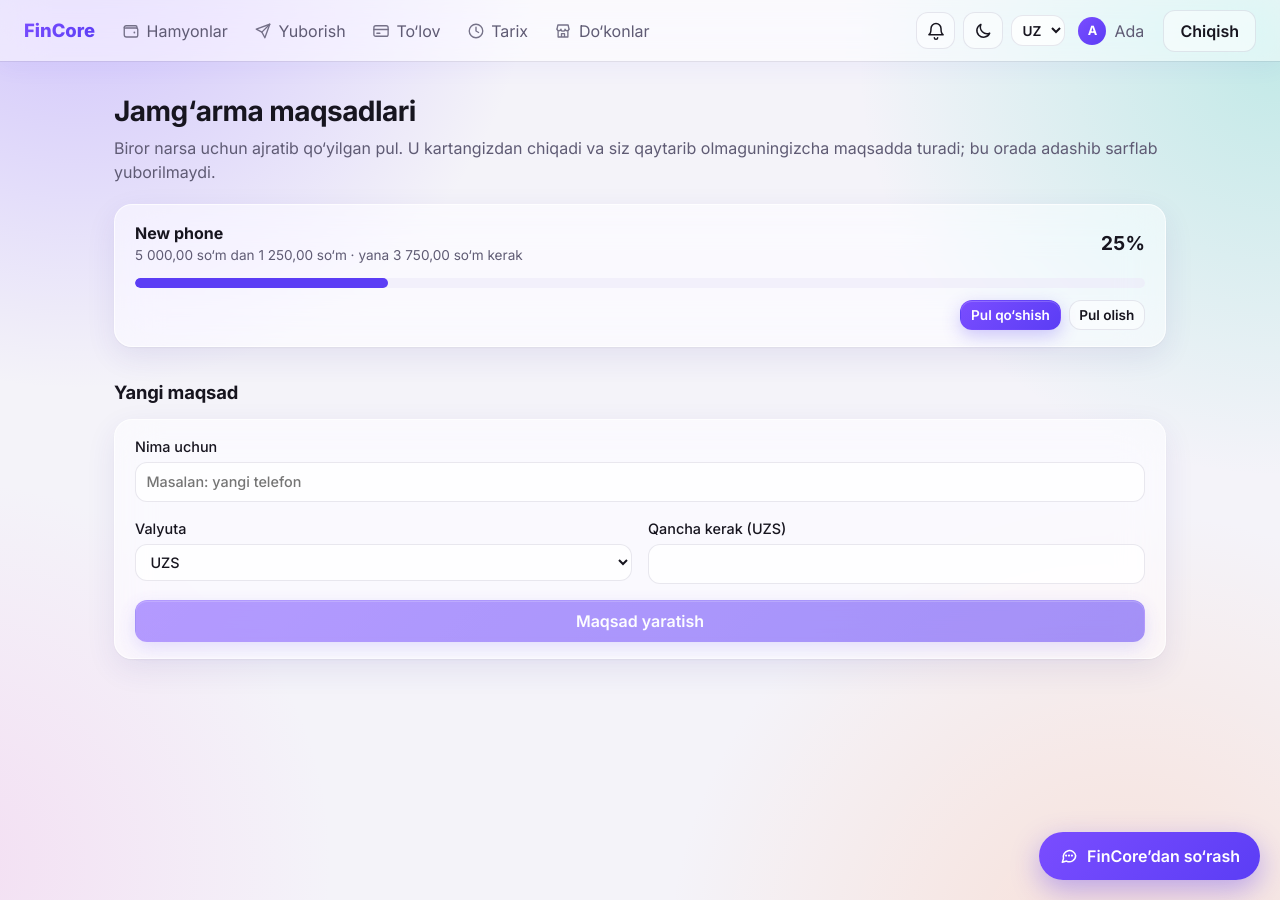
Scenario: savings goals › says plainly when a movement failed or is still on its way
The image size is (1280, 900).
Click the button "Pul qo‘shish".
click(1011, 315)  # box [960, 300, 1061, 330]
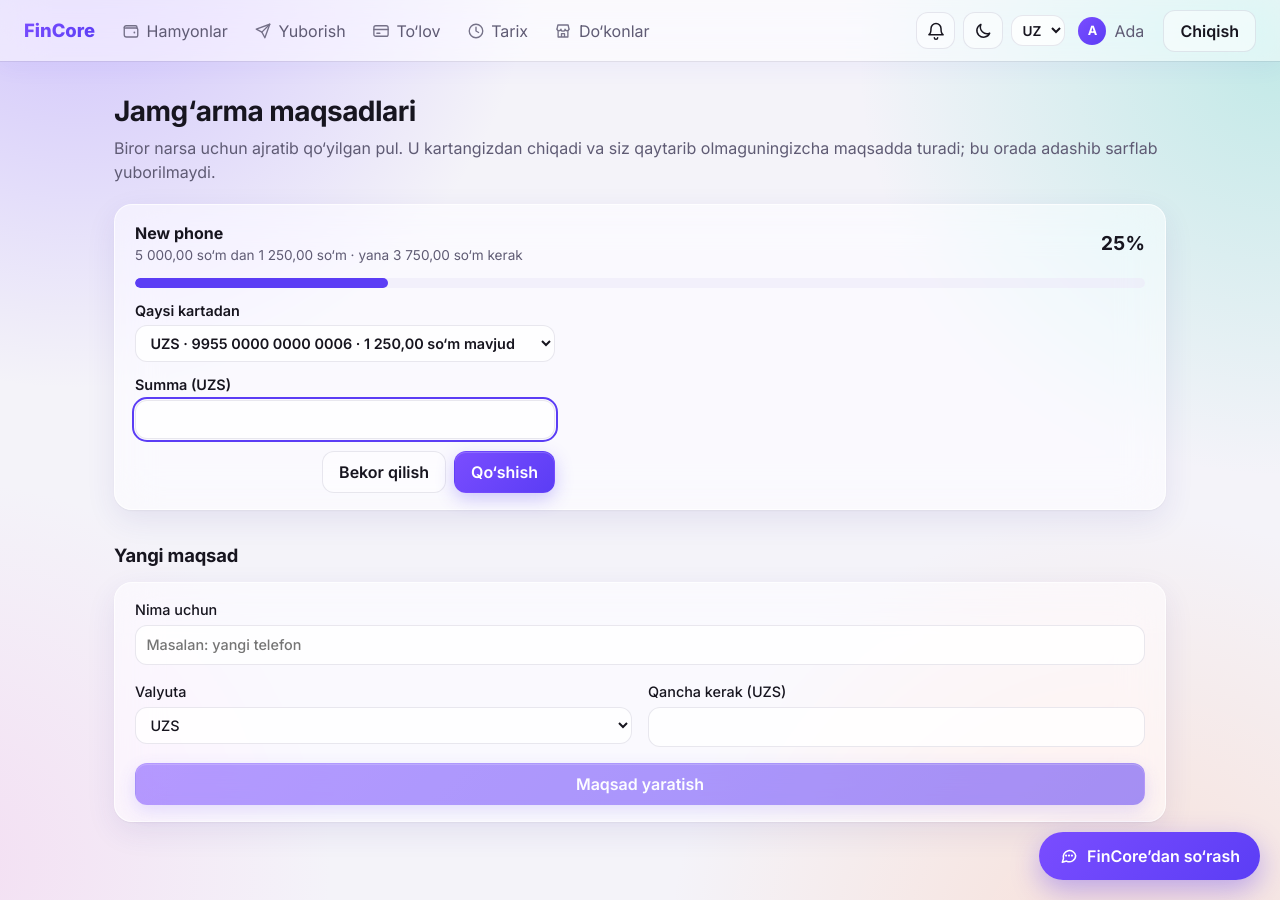
Type "300" into the field labelled "Summa (UZS)".
click(345, 420); type("300")  # box [135, 400, 555, 439]
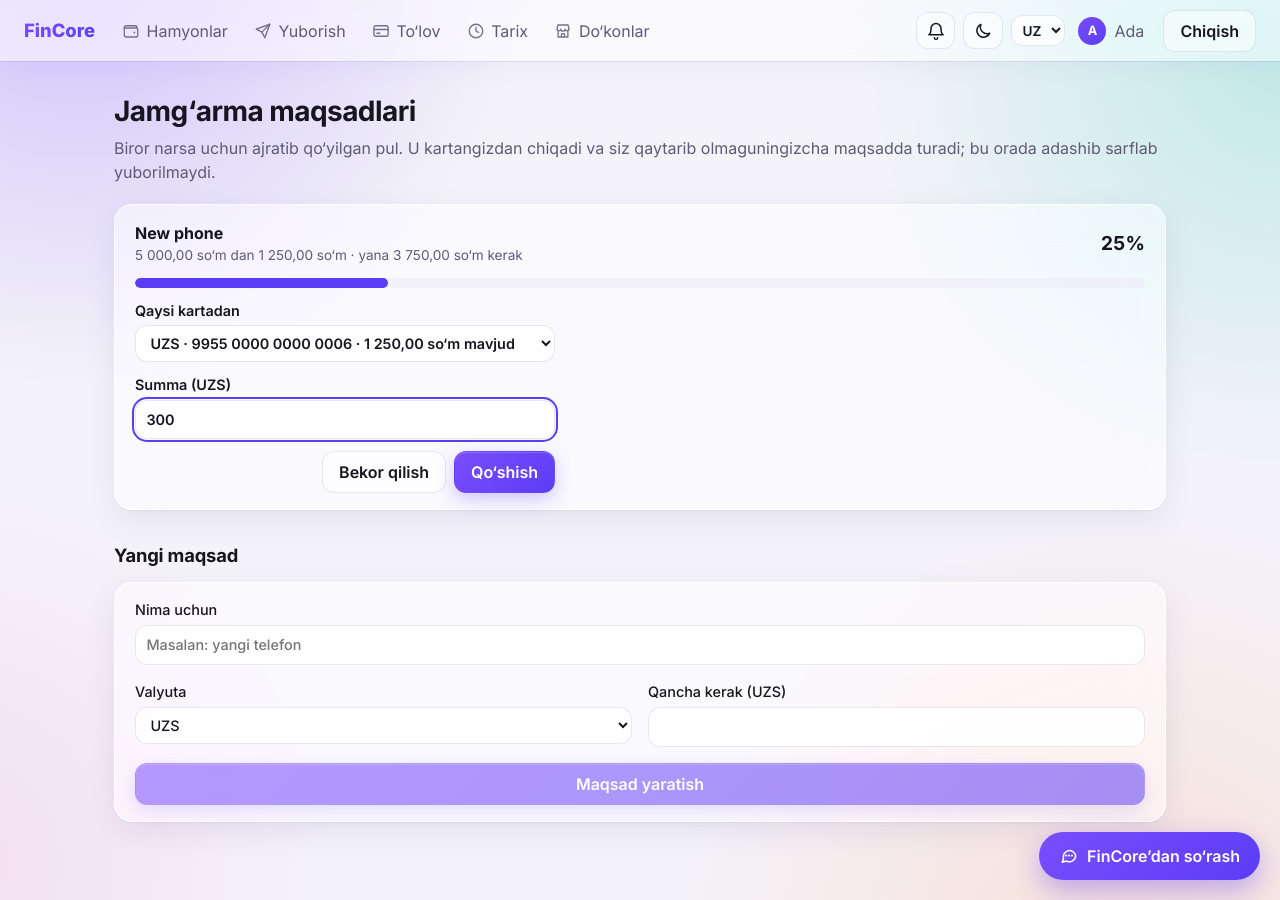
Click the button "Qo‘shish".
click(505, 472)  # box [454, 451, 555, 493]
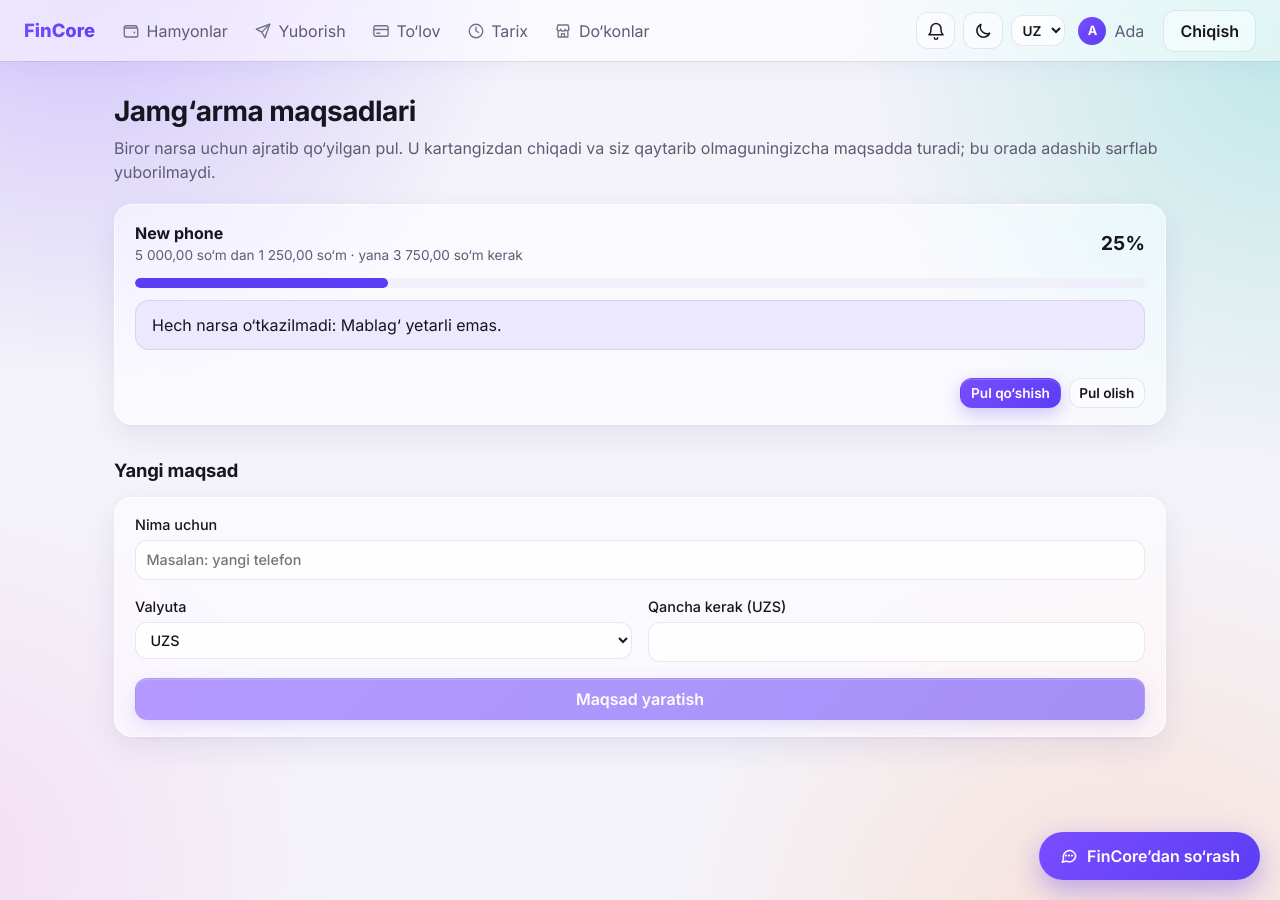
Expected: the text "Hech narsa o‘tkazilmadi: Mablag‘ yetarli emas." is shown, [135, 300, 1145, 350]
Click the button "Pul qo‘shish".
click(1011, 393)  # box [960, 378, 1061, 408]
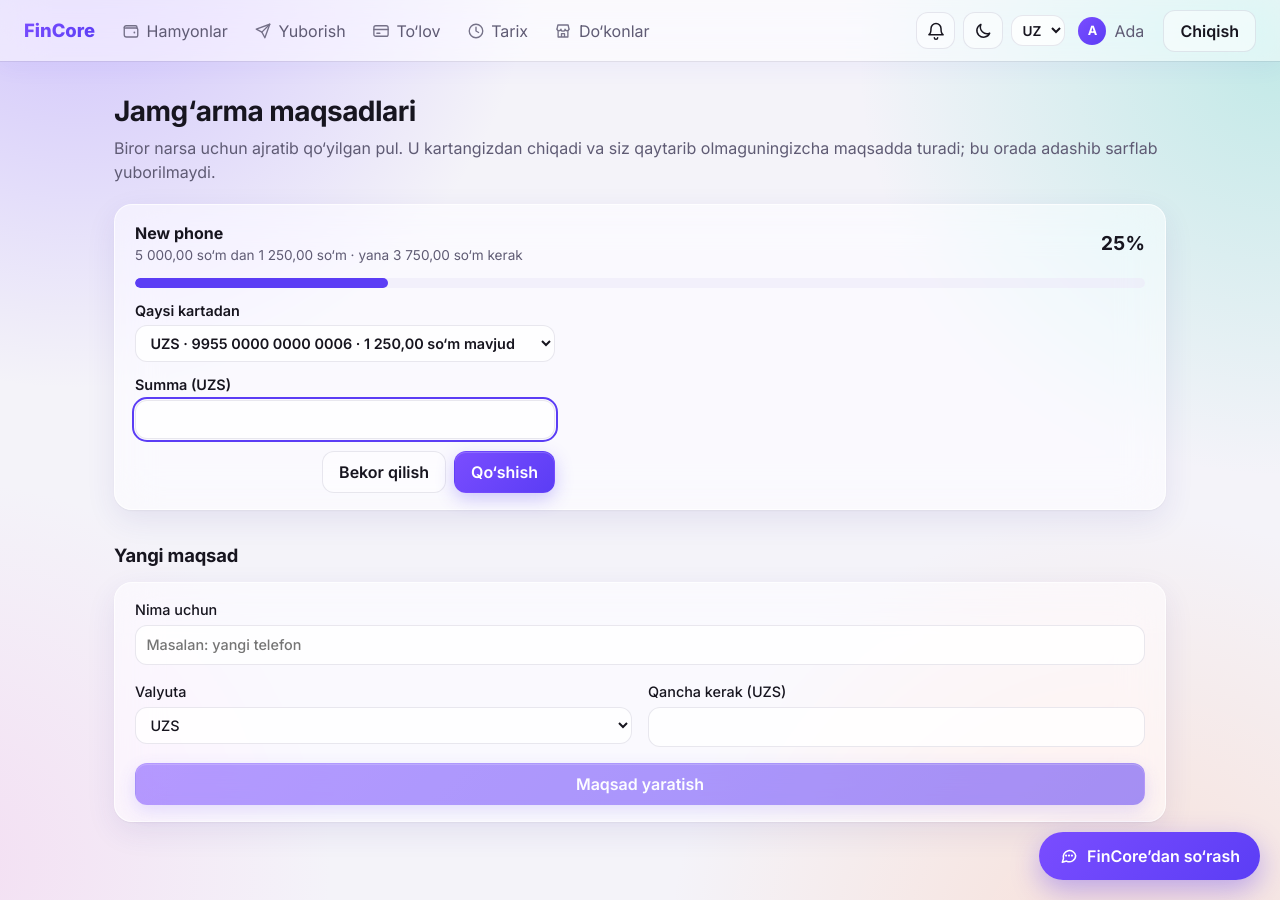
Type "300" into the field labelled "Summa (UZS)".
click(345, 420); type("300")  # box [135, 400, 555, 439]
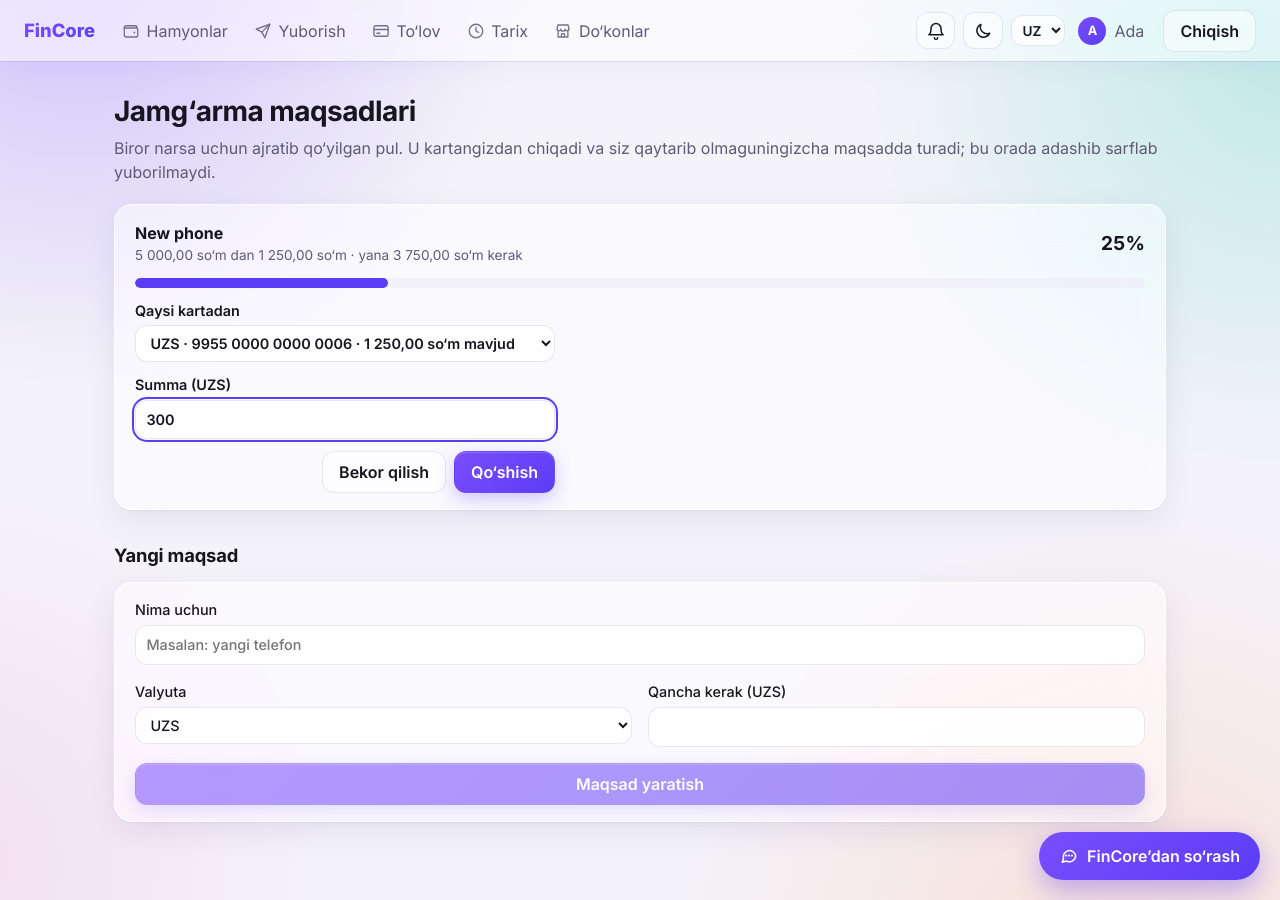
Click the button "Qo‘shish".
click(505, 472)  # box [454, 451, 555, 493]
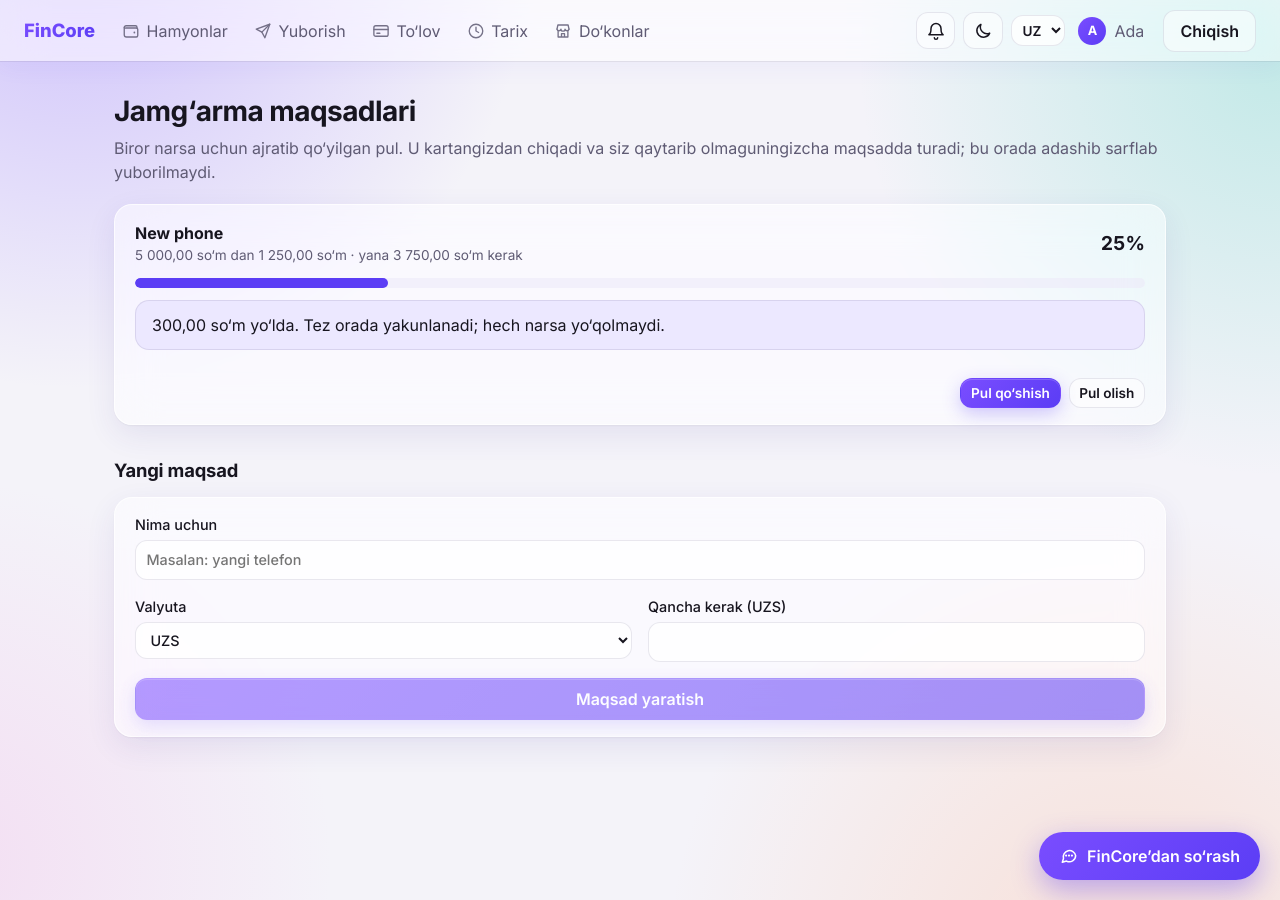
Expected: the text "300,00 so‘m yo‘lda. Tez orada yakunlanadi; hech narsa yo‘qolmaydi." is shown, [135, 300, 1145, 350]
